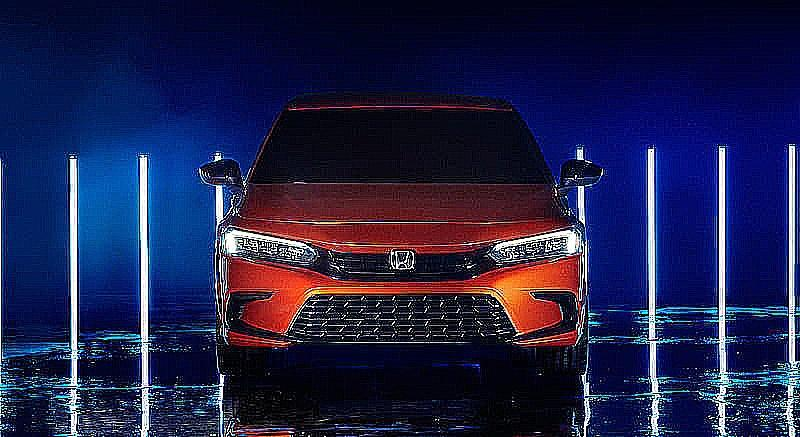Car hood: (233, 179, 581, 254)
Front bumper: (213, 255, 593, 355)
Headlight - -L-: (484, 223, 587, 271)
Headlight - -R-: (215, 222, 321, 271)
Side mirror - -L-: (553, 155, 607, 202)
Side mirror - -R-: (193, 155, 246, 192)
